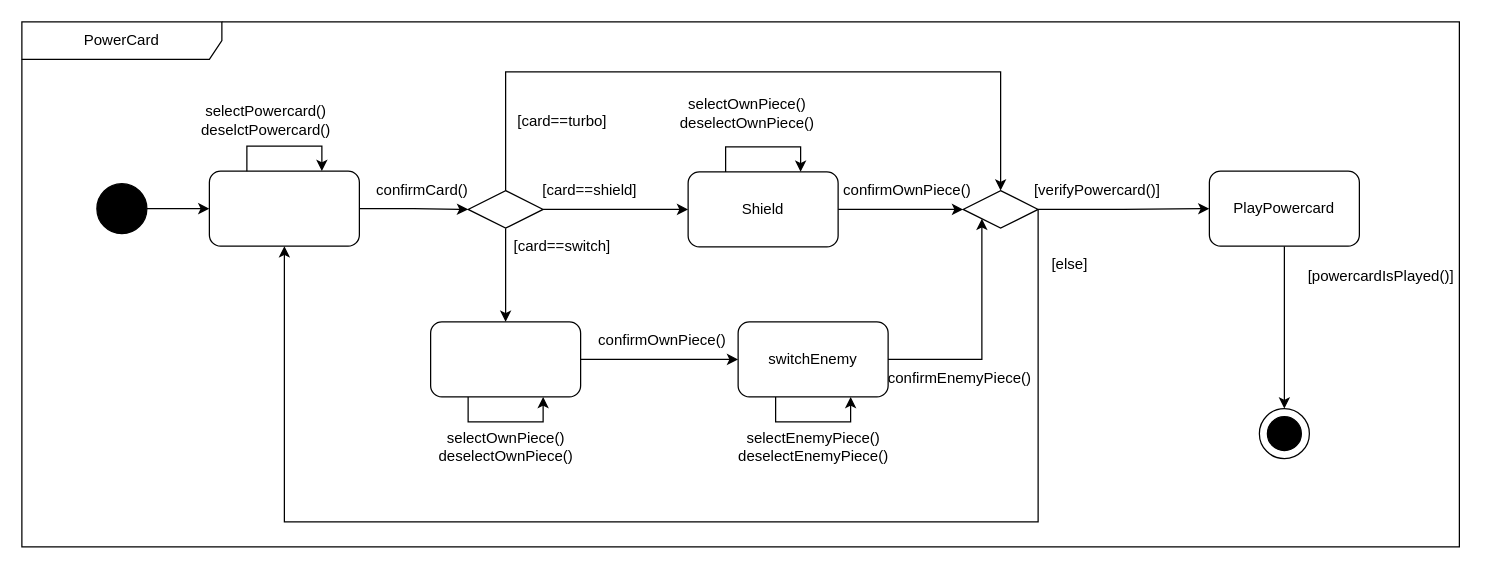
Some shapes in this 1490 by 569 pixel diagram are drawn without their labels. Each missing label, with the centre of its shape:
ChoosePowerCard: the point at 283,208
SwitchOwn: the point at 505,359
